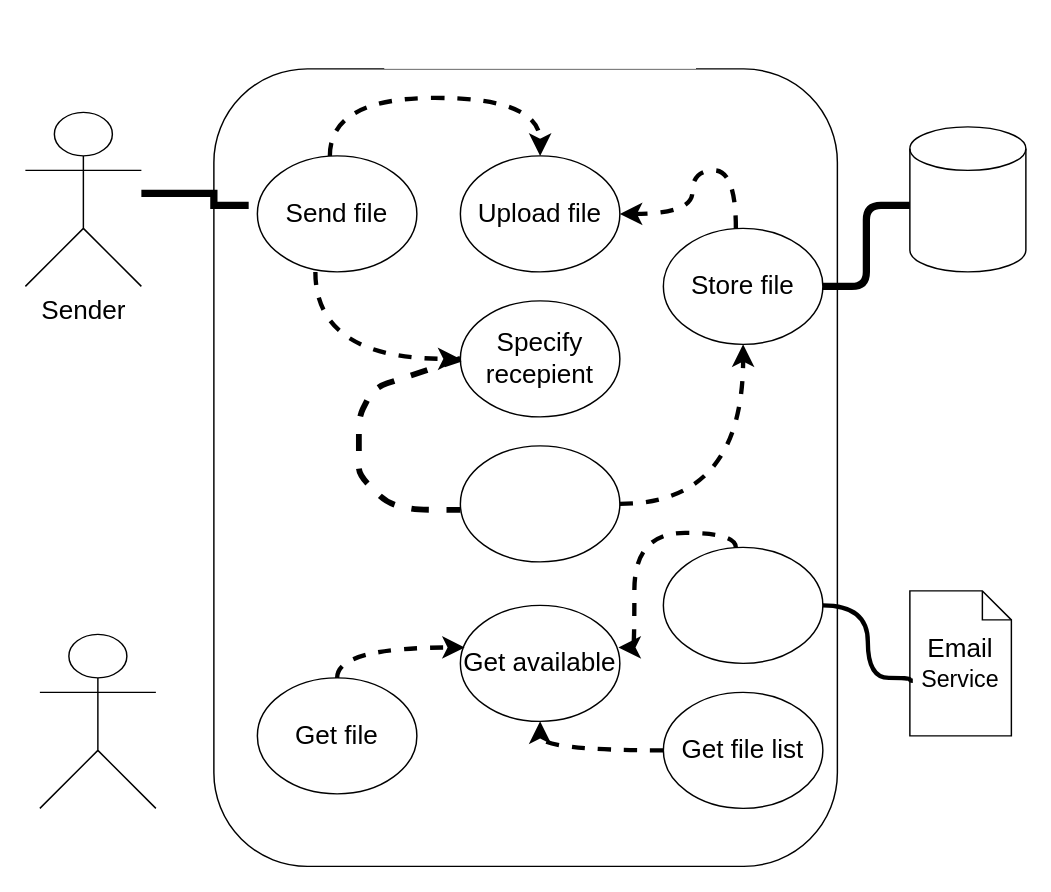
Some shapes in this 1051 by 892 pixel diagram are drawn without their labels. Each missing label, with the box of its shape:
File Storage: (908, 125, 1026, 272)
File Tranfer Service: (384, 25, 695, 68)
Reception: (38, 633, 156, 808)
Save file recepient: (459, 444, 620, 562)
Send email: (662, 546, 823, 663)
